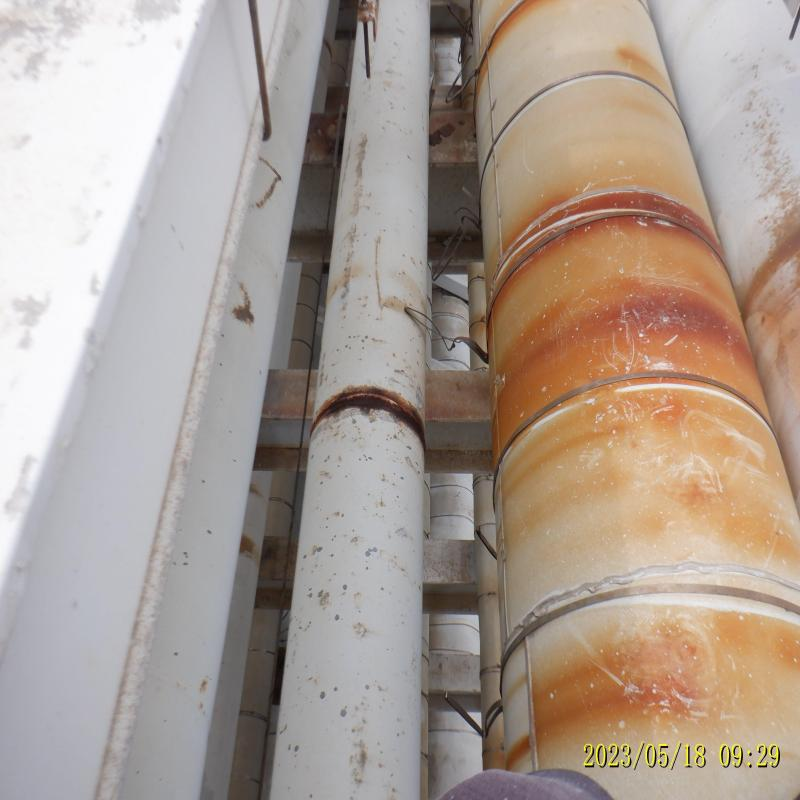corrosion: (328, 389, 412, 414)
